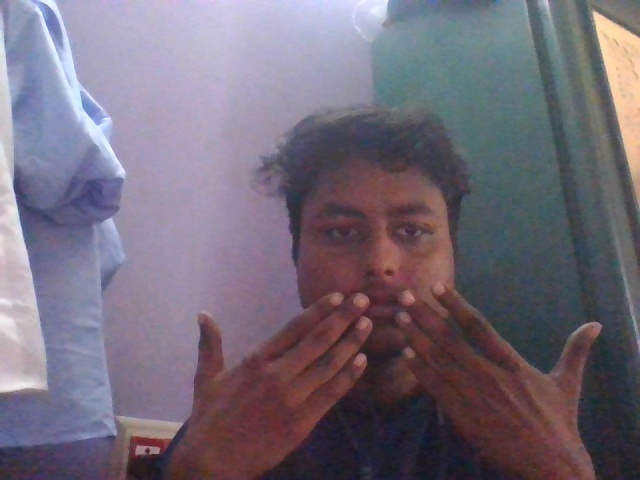thankyou: (170, 243, 640, 480)
